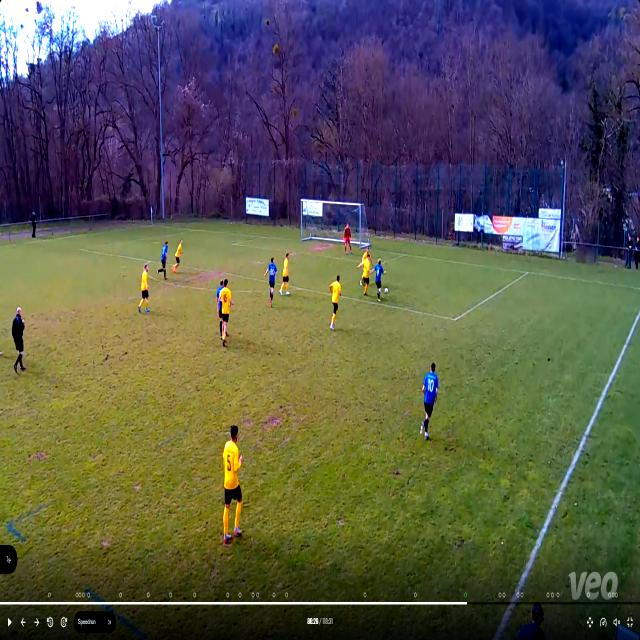bigarea_bottom_inner: (448, 309, 466, 336)
bigarea_bottom_outter: (521, 263, 535, 285)
bigarea_top_inner: (78, 241, 86, 256)
bigarea_top_outter: (194, 226, 199, 236)
corner: (148, 221, 158, 229)
smallarea_bottom_outter: (400, 247, 410, 265)
smallarea_top_inner: (230, 239, 238, 252)
smallarea_top_outter: (264, 232, 270, 242)
top_arc_area_intersection: (146, 254, 155, 267)
